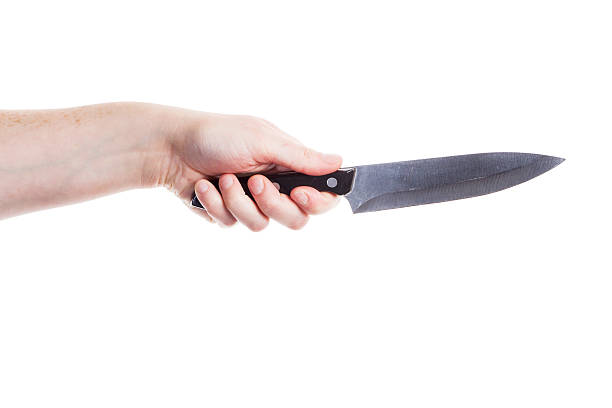knife: (190, 151, 568, 215)
